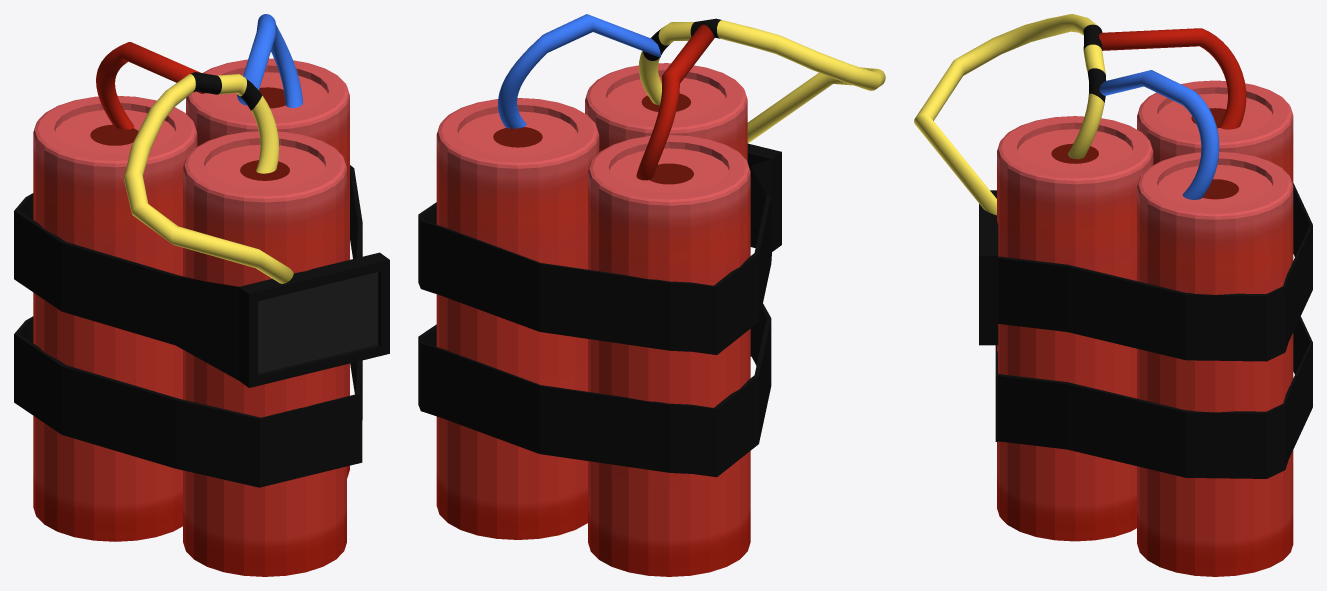
The model's file is tnt.glb.
3 views of the same model, side by side, from view 1: azimuth 30°, elevation 25°; view 2: azimuth 150°, elevation 25°; view 3: azimuth 270°, elevation 25° (orthographic). The views are drawn at different scales.
Visible parts, largest first — view 1: dynamite; view 2: dynamite; view 3: dynamite.
Boxes of the visible parts, left/top/right/bottom form: dynamite: left=14, top=14, right=389, bottom=576; dynamite: left=418, top=14, right=885, bottom=576; dynamite: left=914, top=14, right=1312, bottom=576.
Size of the model in its own units: 1.29 by 1.82 by 1.44.
Materials: 1 (1 with a texture image).
